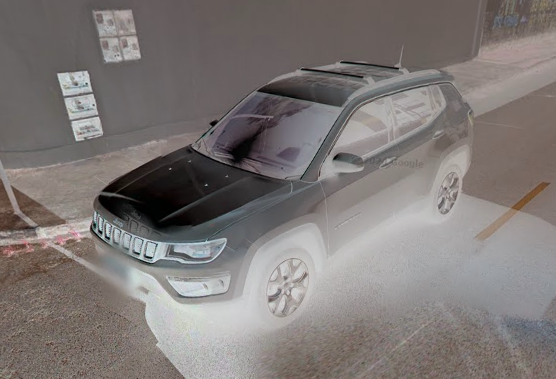car: (88, 44, 477, 329)
